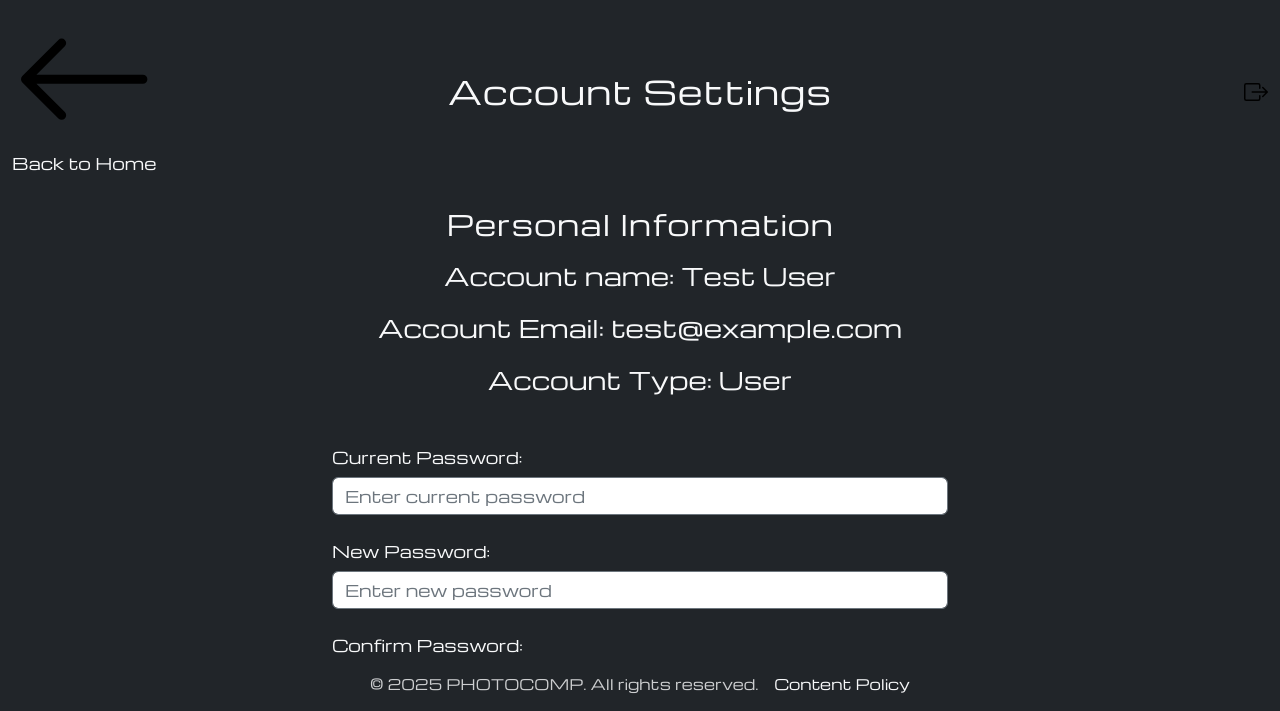
it: Account Settings Page › Password Change › validates password match
Type "password123" into the password field with id "currentPassword". click: (640, 496)
box: [332, 477, 948, 515]
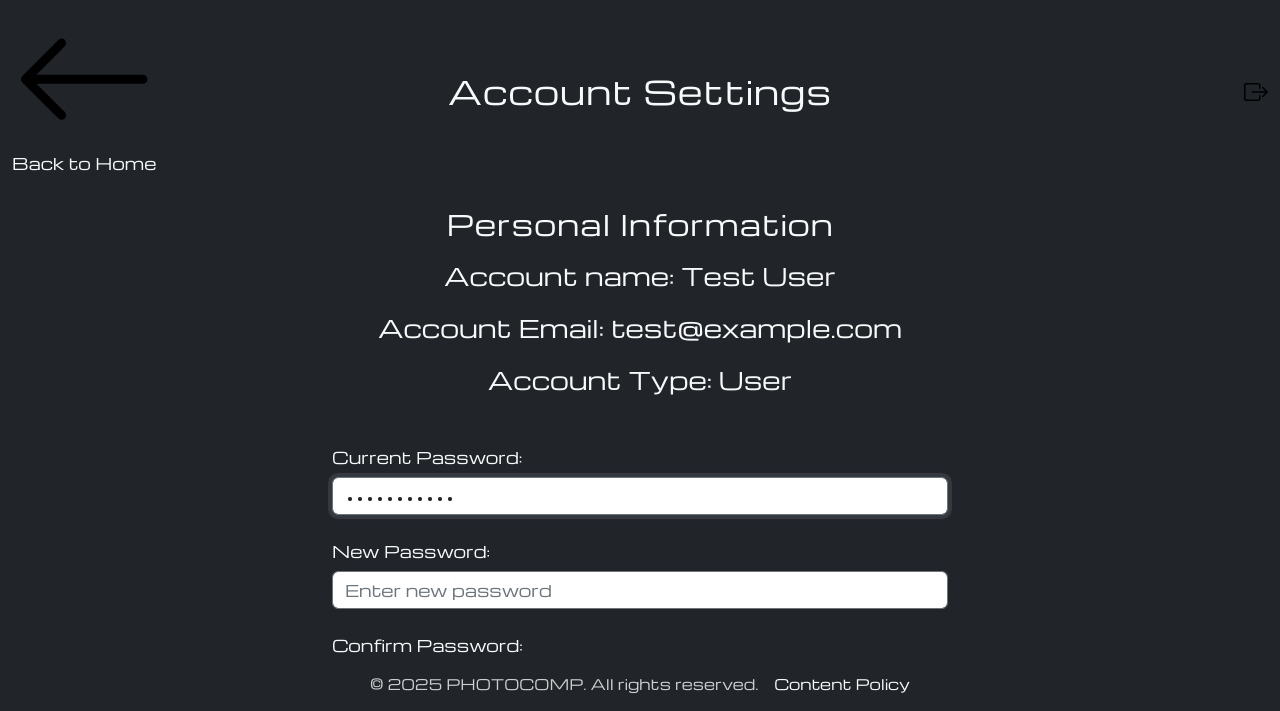
Type "newpassword123" into the password field with id "newPassword". click: (640, 590)
box: [332, 571, 948, 609]
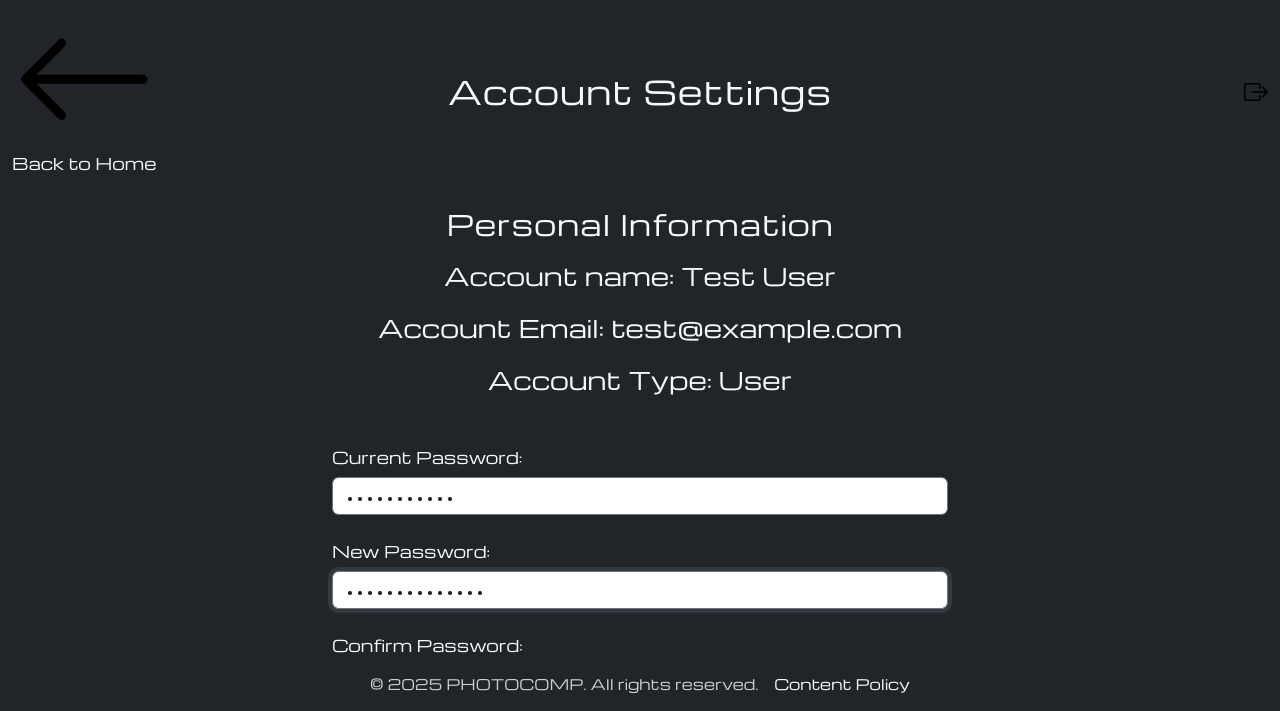
Scroll
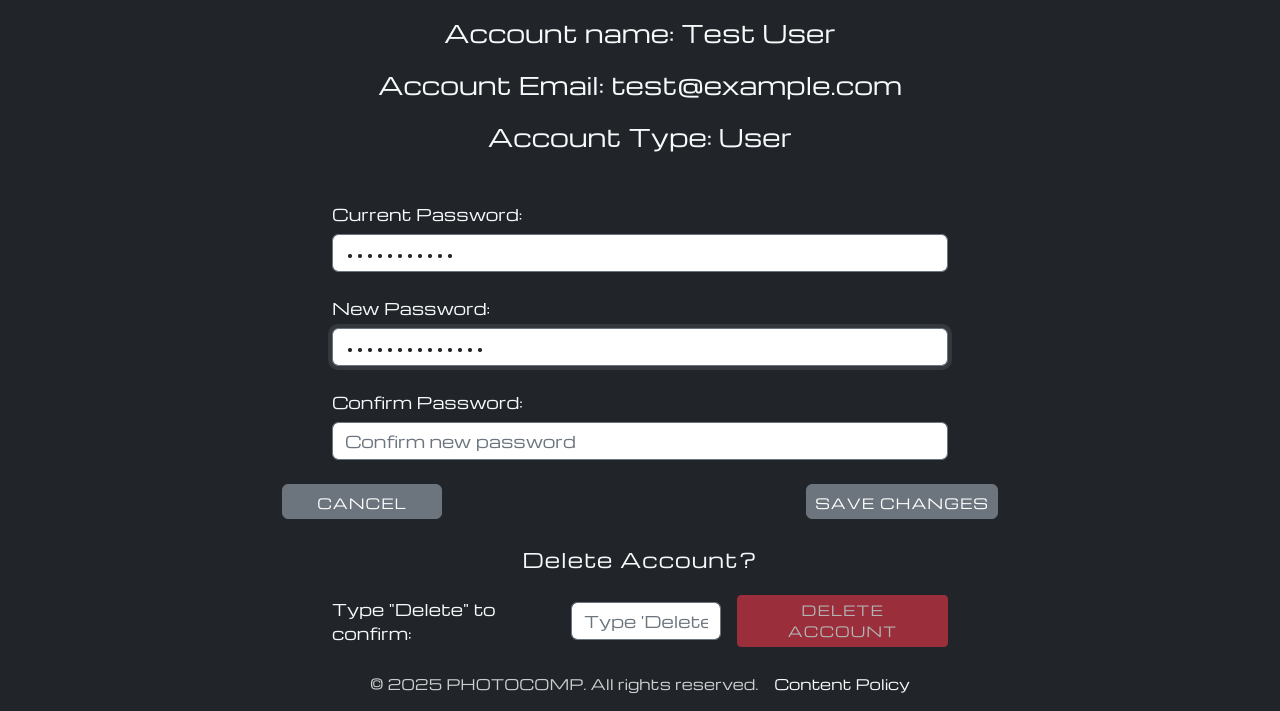
Type "differentpassword" into the password field with id "confirmPassword". click: (640, 441)
box: [332, 422, 948, 460]
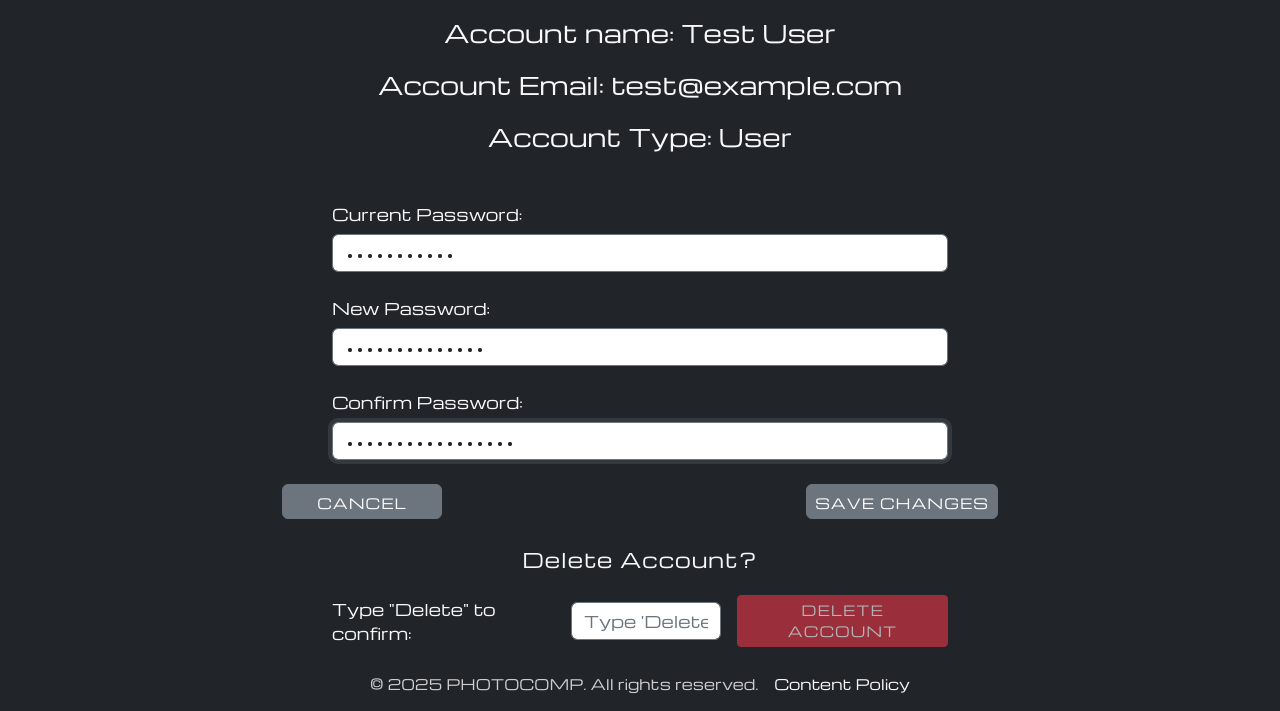
Click the button "Save Changes". click: (902, 502)
box: [806, 484, 998, 519]
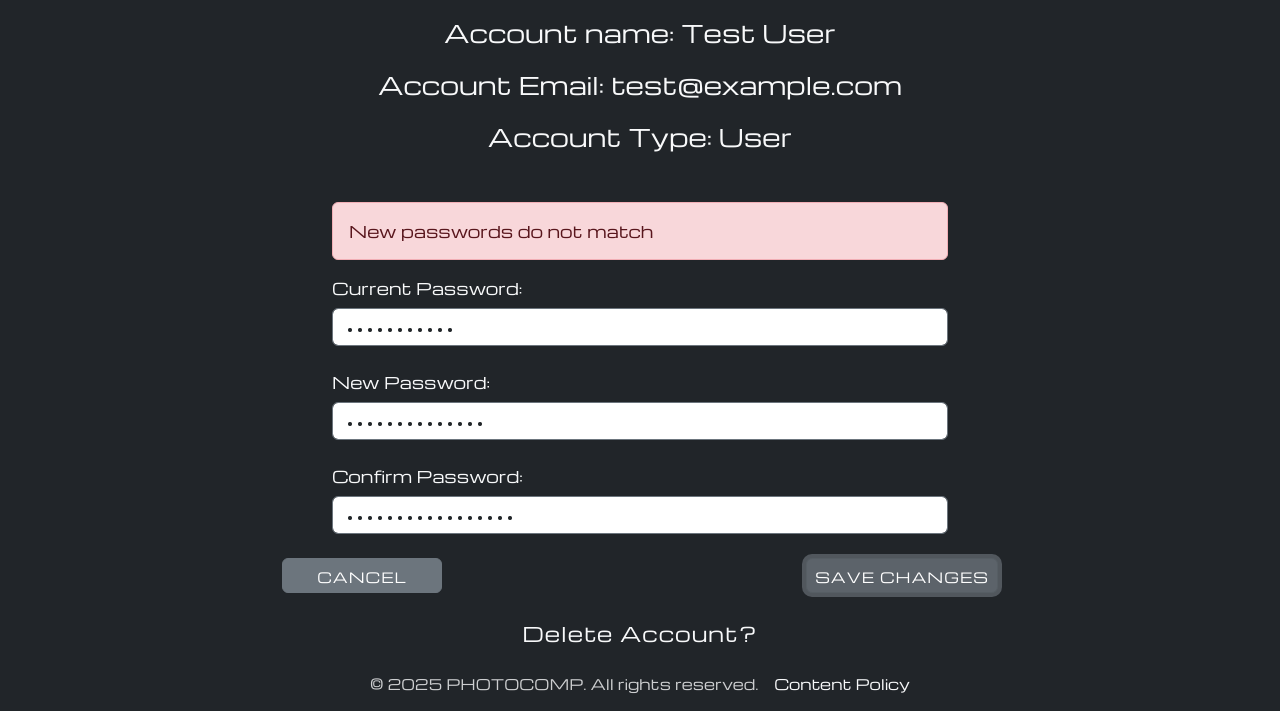
Result: the text "New passwords do not match" is shown at [332, 202, 948, 260]
